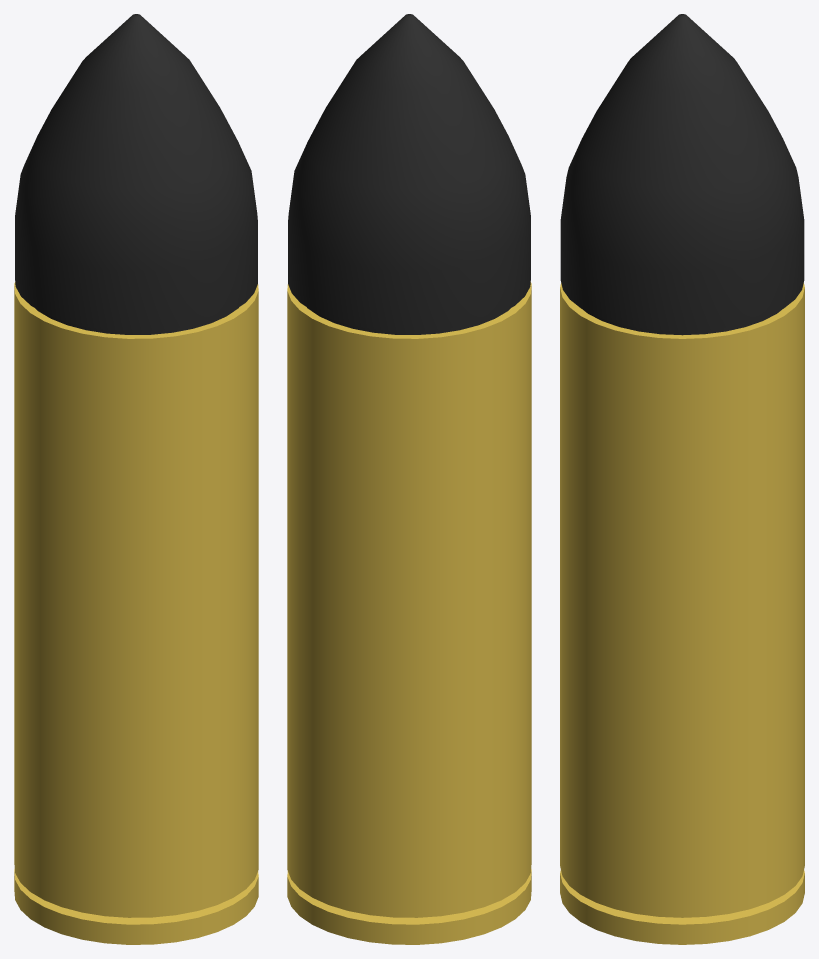
File: SMGAMMO.fbx
The picture shows the model from 3 angles, left to right: view 1: azimuth 30°, elevation 25°; view 2: azimuth 150°, elevation 25°; view 3: azimuth 270°, elevation 25°; orthographic projection.
Visible parts, largest first — view 1: SMG; view 2: SMG; view 3: SMG.
Part boxes in pixels (x1,y1,x2,y2): SMG: (14,14,258,944); SMG: (287,14,531,944); SMG: (560,14,804,944).
Bounding box in the file's own units: 60 × 237 × 60.
